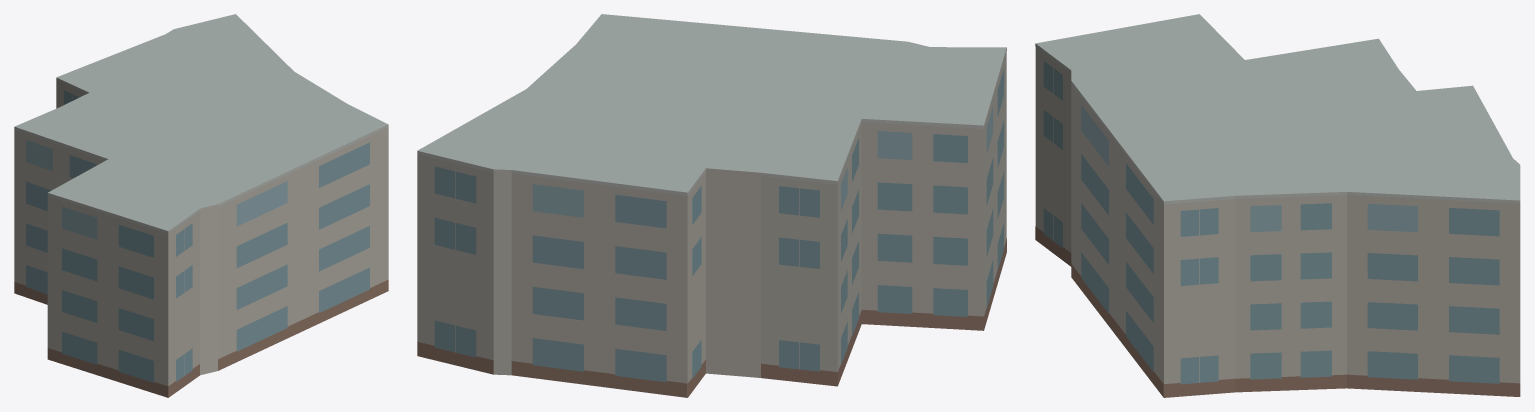
The model's file is survey-upis-32468579.glb.
3 renders of one model, left to right at view 1: azimuth 30°, elevation 25°; view 2: azimuth 150°, elevation 25°; view 3: azimuth 270°, elevation 25°, orthographic. The views are drawn at different scales.
Visible parts, largest first — view 1: survey-upis-32468579.tmp; view 2: survey-upis-32468579.tmp; view 3: survey-upis-32468579.tmp.
Boxes of the visible parts, bbox=[...] form: survey-upis-32468579.tmp: bbox=[14, 14, 388, 397]; survey-upis-32468579.tmp: bbox=[417, 14, 1006, 397]; survey-upis-32468579.tmp: bbox=[1035, 14, 1520, 397].
Bounding box in the file's own units: 29.75 × 14.55 × 32.54.
